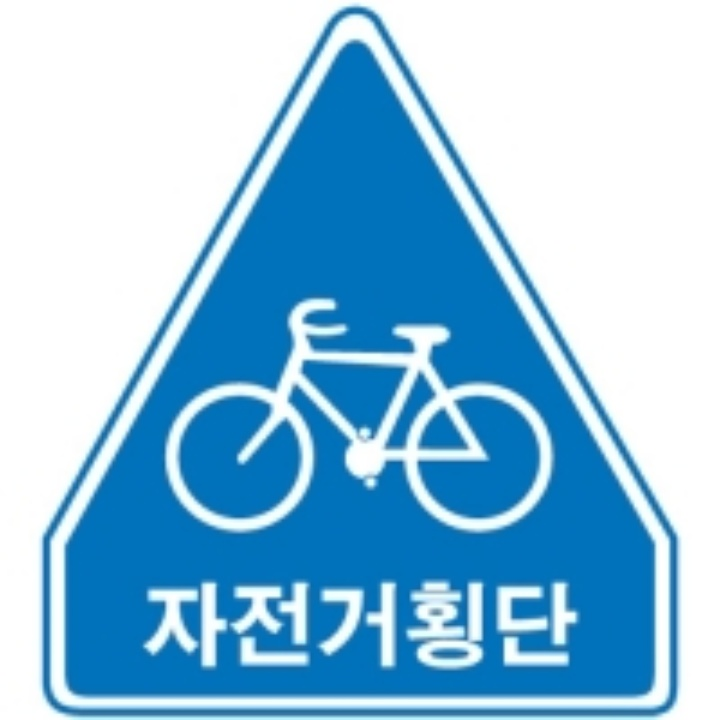bicycle: (159, 291, 563, 547)
